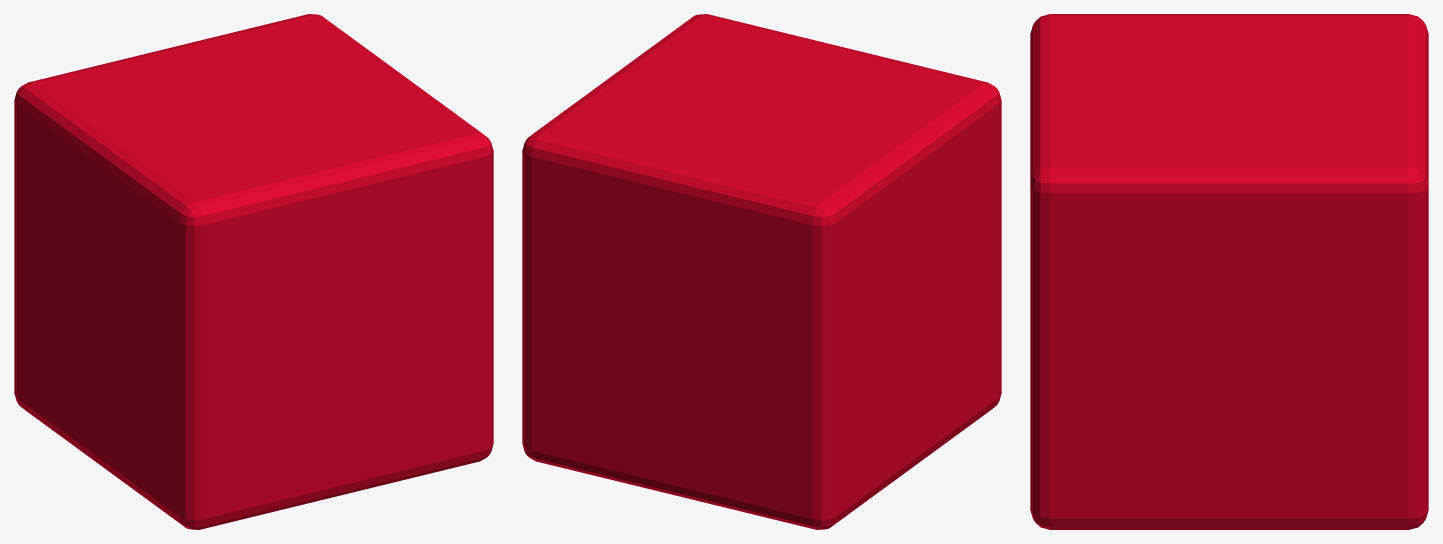
The model's file is Mine.fbx.
The picture shows the model from 3 angles, left to right: view 1: azimuth 30°, elevation 25°; view 2: azimuth 150°, elevation 25°; view 3: azimuth 270°, elevation 25°; orthographic projection. The views are drawn at different scales.
Visible parts, largest first — view 1: Cube; view 2: Cube; view 3: Cube.
Boxes of the visible parts, <box> form: Cube: <box>14,14,493,529</box>; Cube: <box>522,14,1001,529</box>; Cube: <box>1030,14,1428,529</box>.
Bounding box in the file's own units: 2 × 2 × 2.
